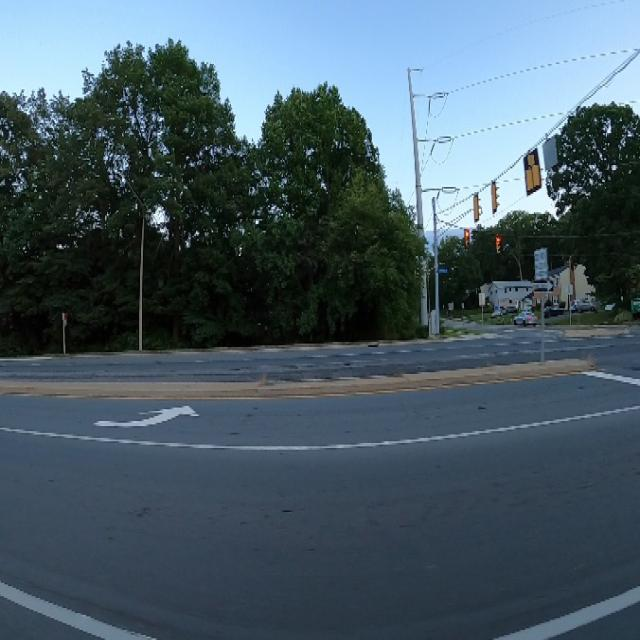cars: (566, 289, 600, 318), (512, 306, 540, 331)
